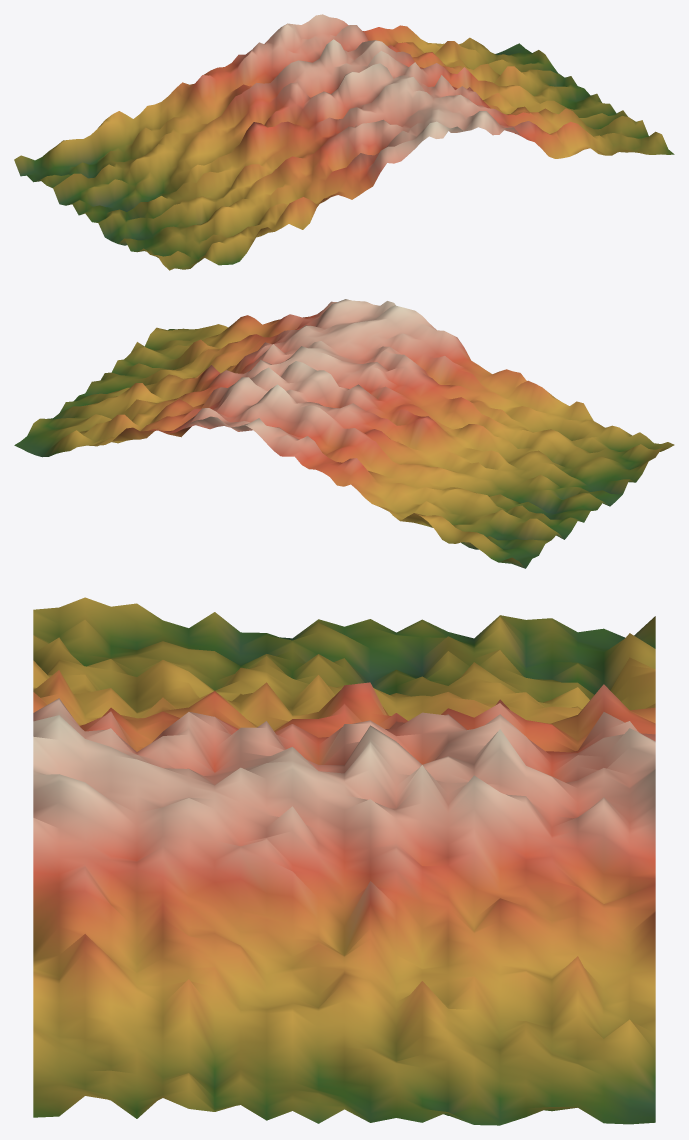
File: climate-baragan.glb
3 views of the same model, one above another, from view 1: azimuth 30°, elevation 25°; view 2: azimuth 150°, elevation 25°; view 3: azimuth 270°, elevation 25° (orthographic). The views are drawn at different scales.
Visible parts, largest first — view 1: ridge; view 2: ridge; view 3: ridge.
Boxes of the visible parts, x1,y1,x2,y2 form: ridge: (14, 14, 674, 270); ridge: (14, 299, 674, 568); ridge: (33, 597, 655, 1125).
Size of the model in its own units: 6 by 1.07 by 3.2.
